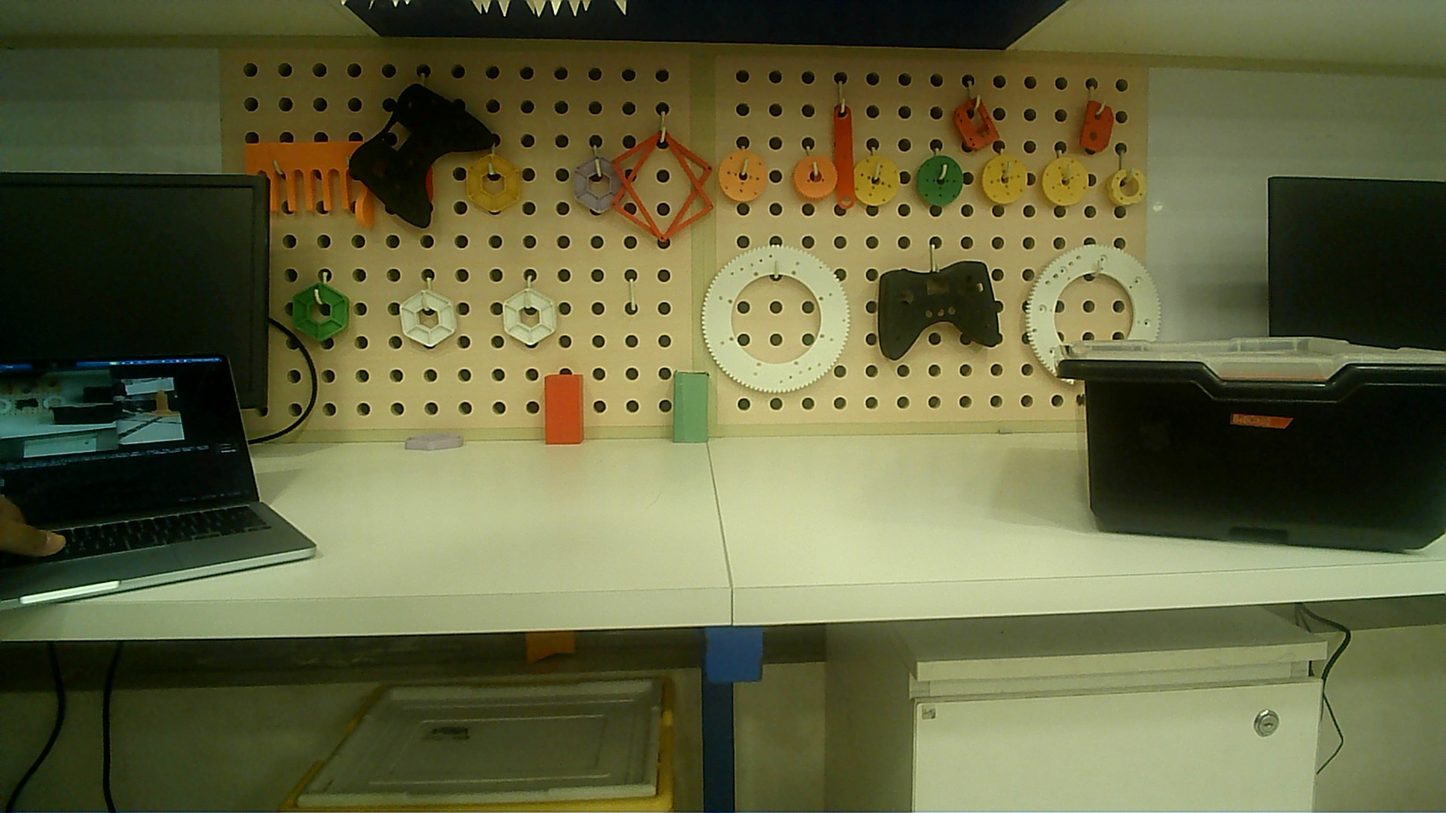red: (533, 361, 592, 464)
